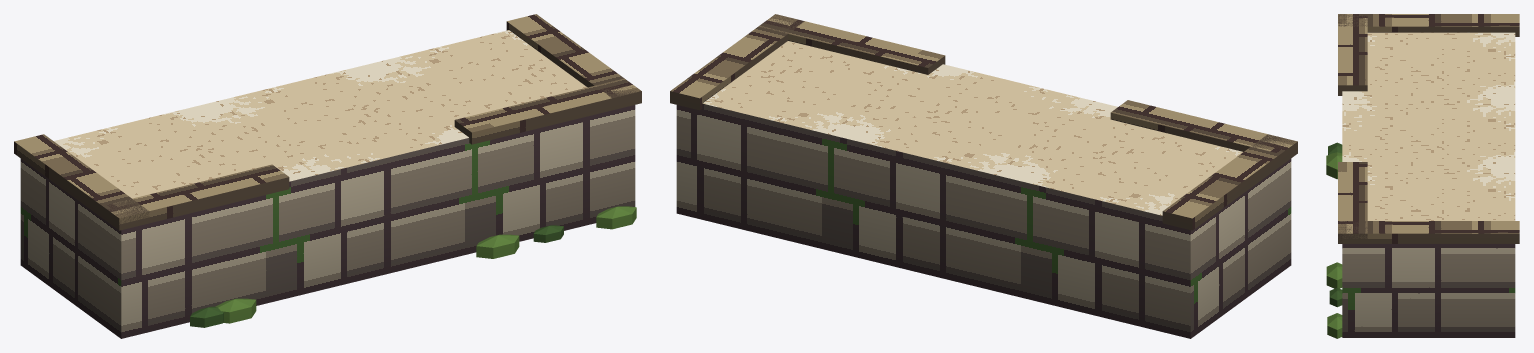
The model's file is scene_plat_g3.glb.
3 renders of one model, left to right at view 1: azimuth 30°, elevation 25°; view 2: azimuth 150°, elevation 25°; view 3: azimuth 270°, elevation 25°, orthographic. The views are drawn at different scales.
Parts seen in each view (by area): view 1: scene_plat_g3; view 2: scene_plat_g3; view 3: scene_plat_g3.
Part boxes in pixels (bbox=[...]): scene_plat_g3: bbox=[14, 14, 641, 338]; scene_plat_g3: bbox=[670, 14, 1297, 338]; scene_plat_g3: bbox=[1326, 14, 1519, 338].
Size of the model in its own units: 6.3 by 1.51 by 2.34.
3 materials, 2 textured.
